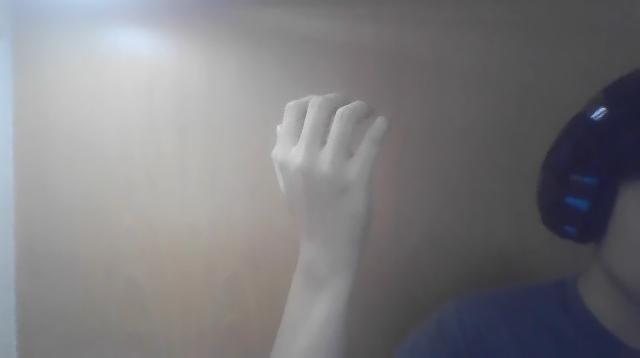backword: (268, 92, 390, 356)
